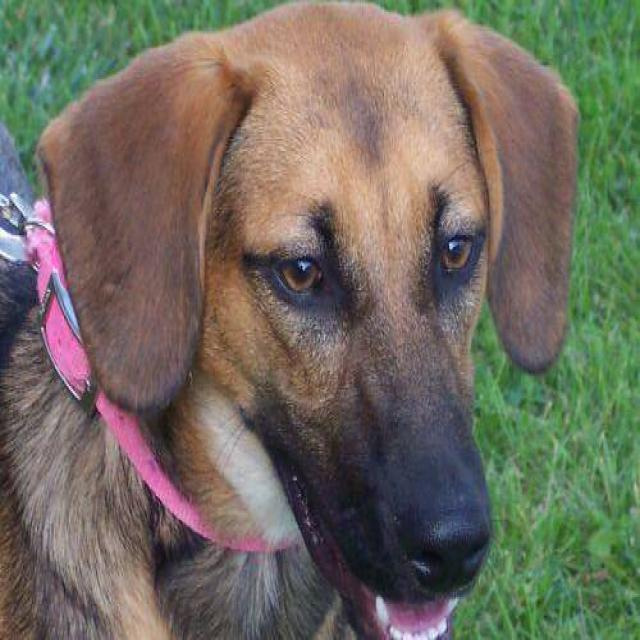Dog: (33, 3, 571, 640)
